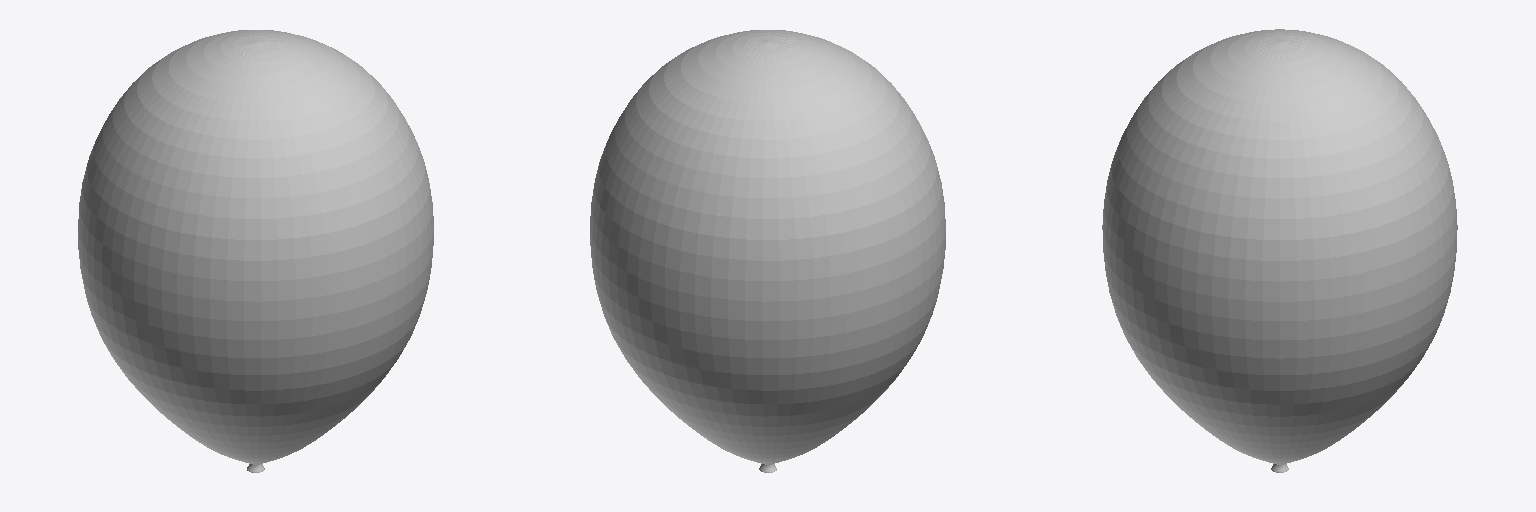
The model's file is Globo15.obj.
The picture shows the model from 3 angles: view 1: azimuth 30°, elevation 25°; view 2: azimuth 150°, elevation 25°; view 3: azimuth 270°, elevation 25°; orthographic projection.
Visible parts, largest first — view 1: Sphere.020; view 2: Sphere.020; view 3: Sphere.020.
Part boxes in pixels (x1,y1,x2,y2): Sphere.020: (78, 30, 433, 472); Sphere.020: (590, 30, 945, 472); Sphere.020: (1102, 29, 1457, 472).
Bounding box in the file's own units: 0.5211 × 0.688 × 0.519.